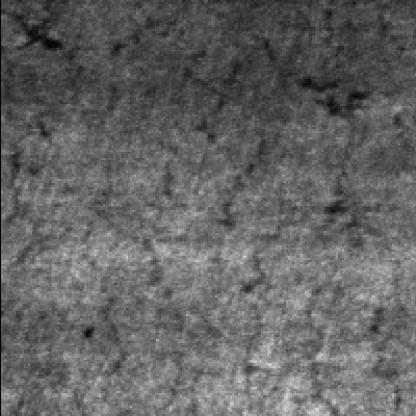crazing: (214, 134, 380, 408), (112, 17, 286, 268), (92, 135, 186, 416), (297, 63, 389, 284)
